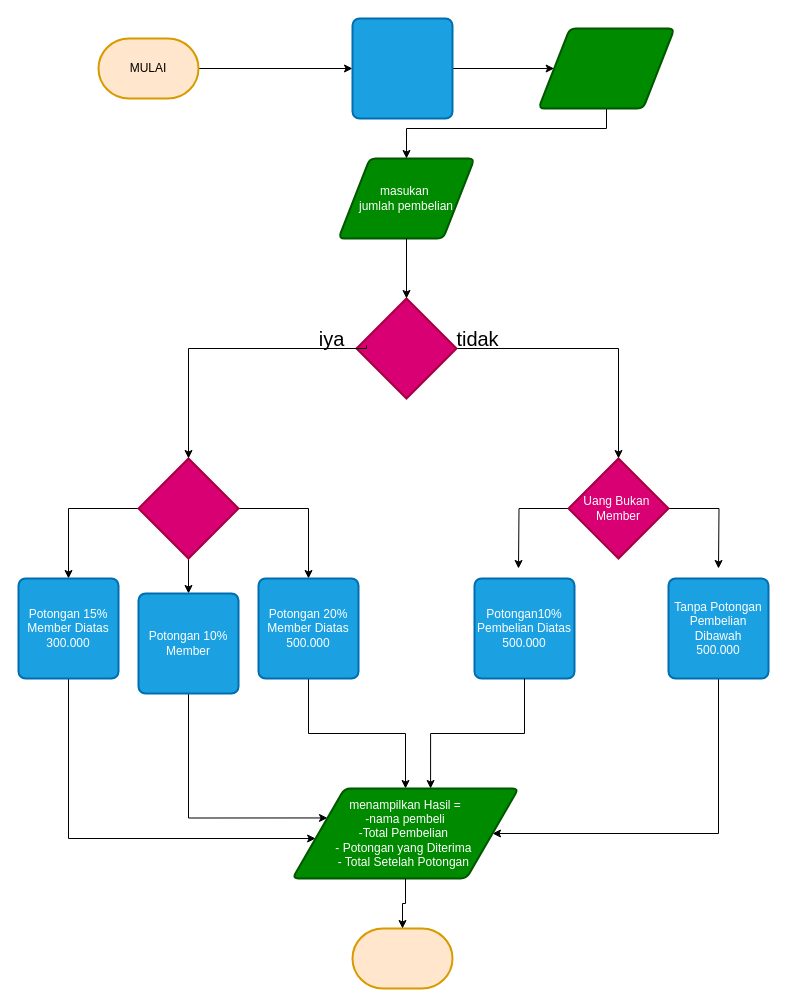
Some shapes in this 786 by 1006 pixel diagram are drawn without their labels. Here are the shapes that lost their labels. From the top down, the centre of each, then its label:
pixel 402 68: Masuk Web Pembeyaran
pixel 606 68: masukan nama pembeli
pixel 406 348: Member
pixel 188 508: Uang Member
pixel 402 958: end
